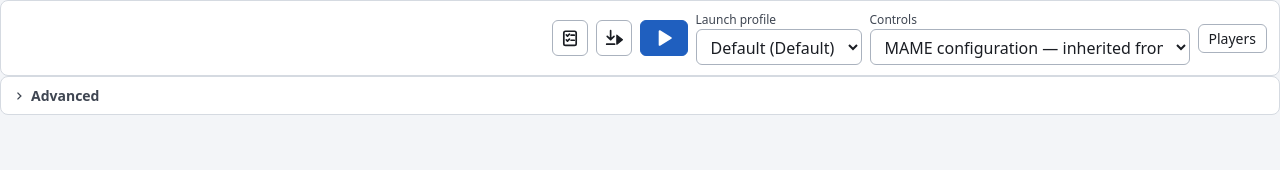
Test case: launcher › machine launch › reports a session that is already running
Click the button named "Play". click: (664, 38)
box: [640,20,688,56]
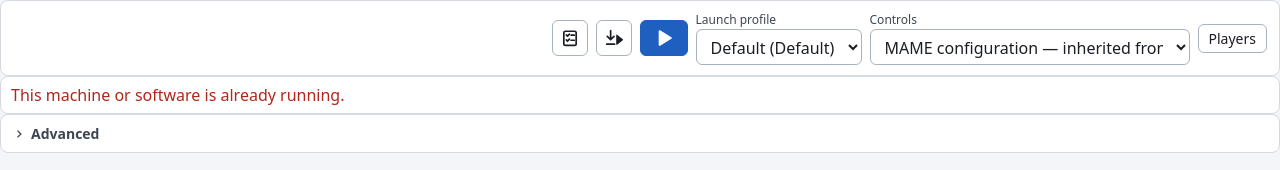
Result: the message shows "already running" at [11,84,344,106]
